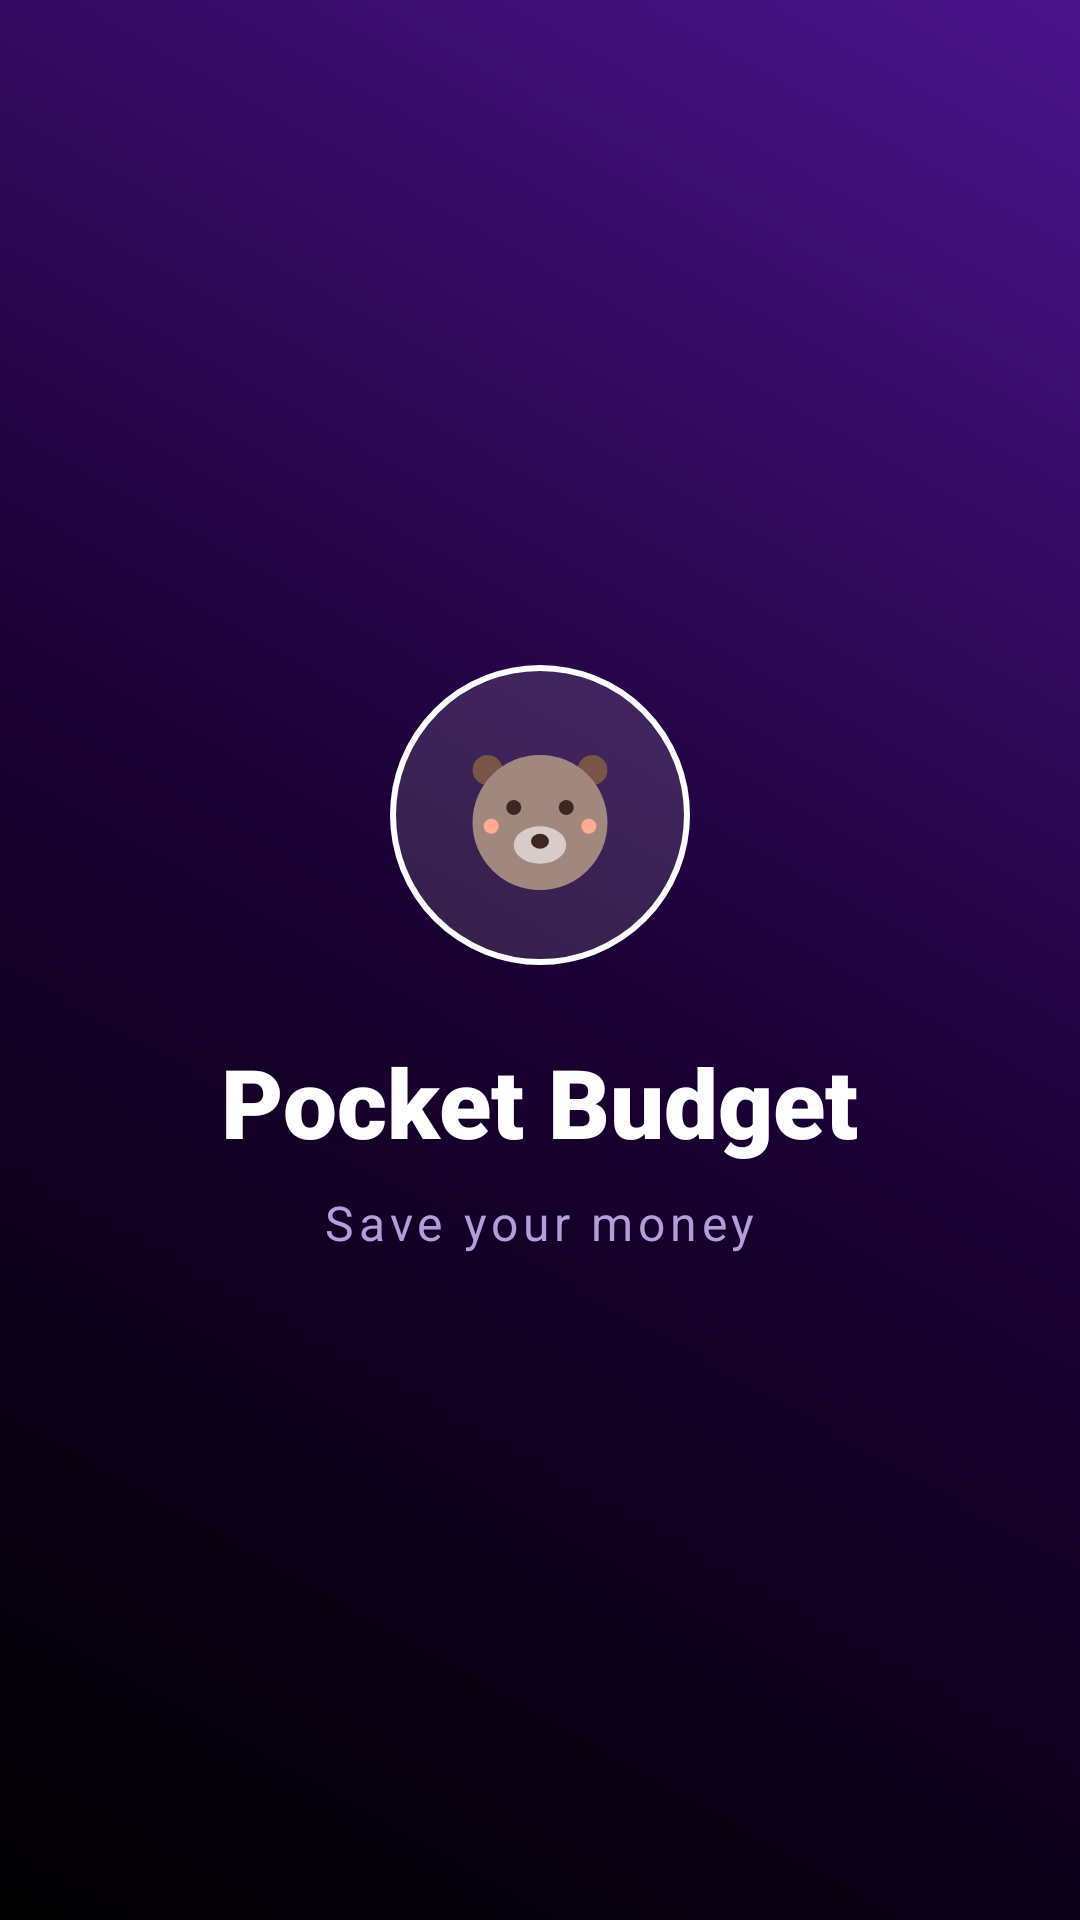

Icons on this 1080x1920 Android screen, each with the point to tap as (x,y):
cute bear: (540,815)
